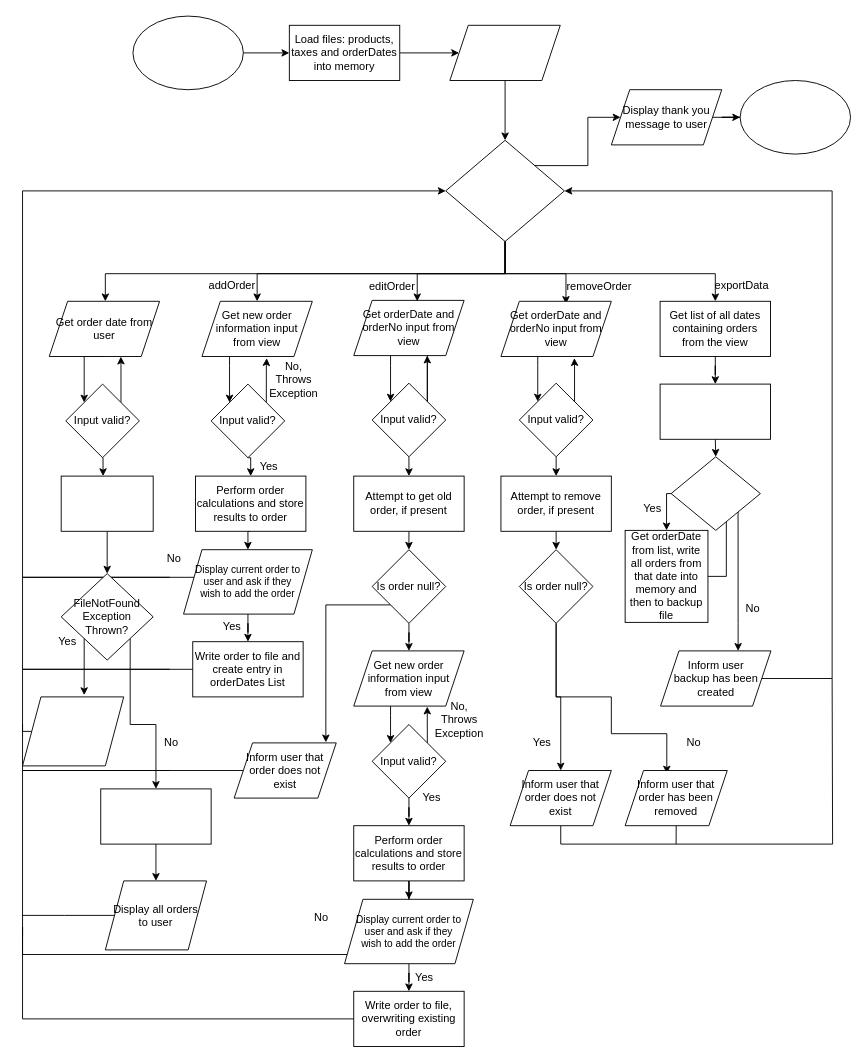
The diagram is 867 pixels wide and 1063 high, and some of its shapes have lost their labels. Each missing label, with the centre of its shape:
Attempt to open file with user defined date: the point at 106,503
Display menu and obtain users choice: the point at 504,52
Inform user that no orders found on given date: the point at 73,731
List contains more dates?: the point at 715,493
Overwrite current backup file with a blank file: the point at 714,411
Quit: the point at 795,117
Read order file from this date into memory: the point at 155,816
Start: the point at 187,52
Switch block calls methods for users choice: the point at 504,190
